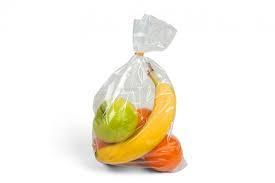Organic: (89, 69, 195, 171)
